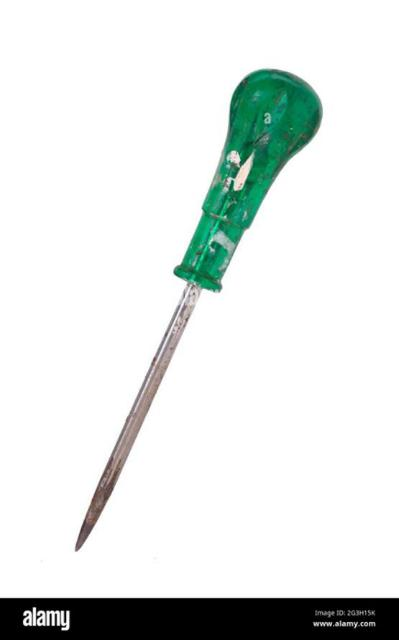ice pick: (73, 66, 327, 554)
